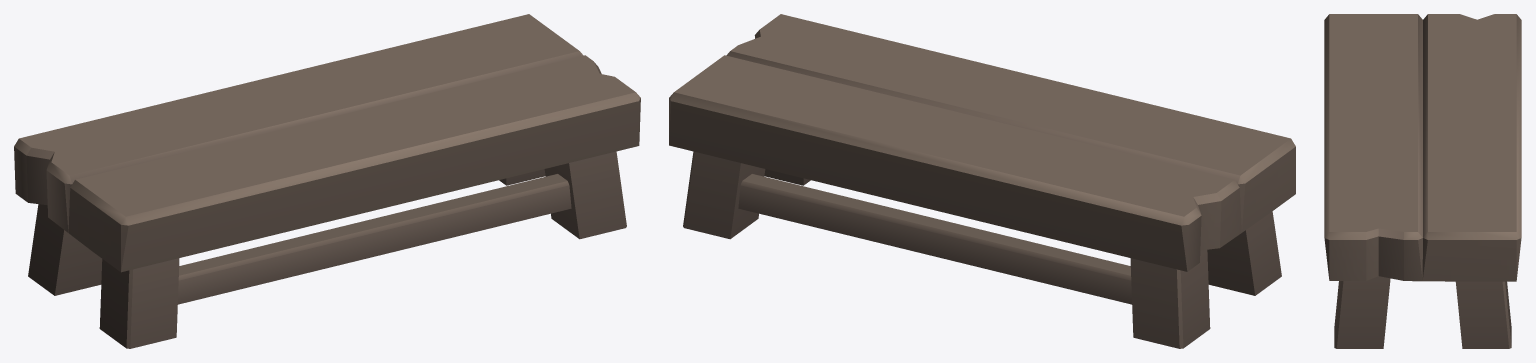
Rendered from prop_bench_halloween.glb.
3 views of the same model, side by side, from view 1: azimuth 30°, elevation 25°; view 2: azimuth 150°, elevation 25°; view 3: azimuth 270°, elevation 25° (orthographic). The views are drawn at different scales.
Visible parts, largest first — view 1: bench; view 2: bench; view 3: bench.
Boxes of the visible parts, <box> form: bench: <box>14,14,640,348</box>; bench: <box>669,14,1295,348</box>; bench: <box>1324,14,1521,348</box>.
Bounding box in the file's own units: 2 × 0.5 × 0.75.
1 material, 1 textured.
